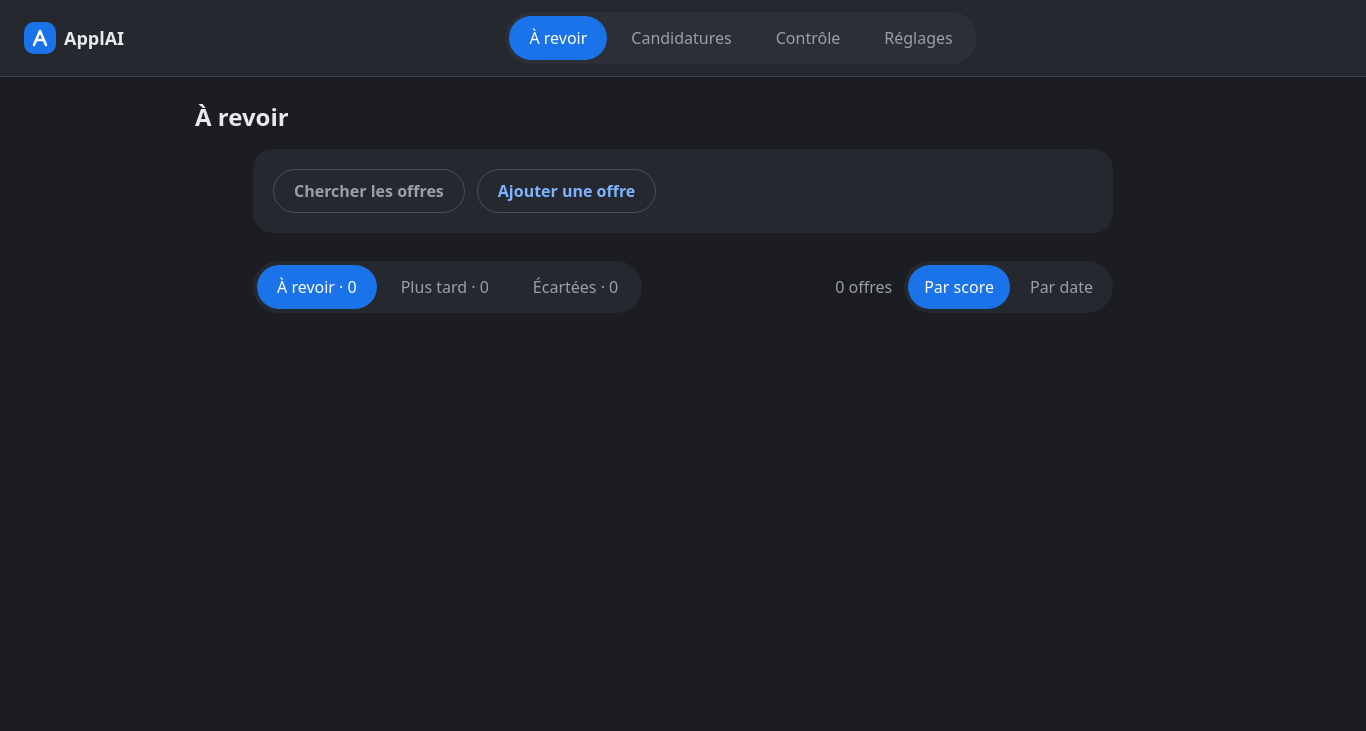
Test: the Settings page › has a sun and a moon for the theme, the language apart, and nothing that signs in or sends
What coordinates should you click on to do the following:
click the button "Réglages"
I would click on:
 (919, 38)
Its box is [864,16,973,60].
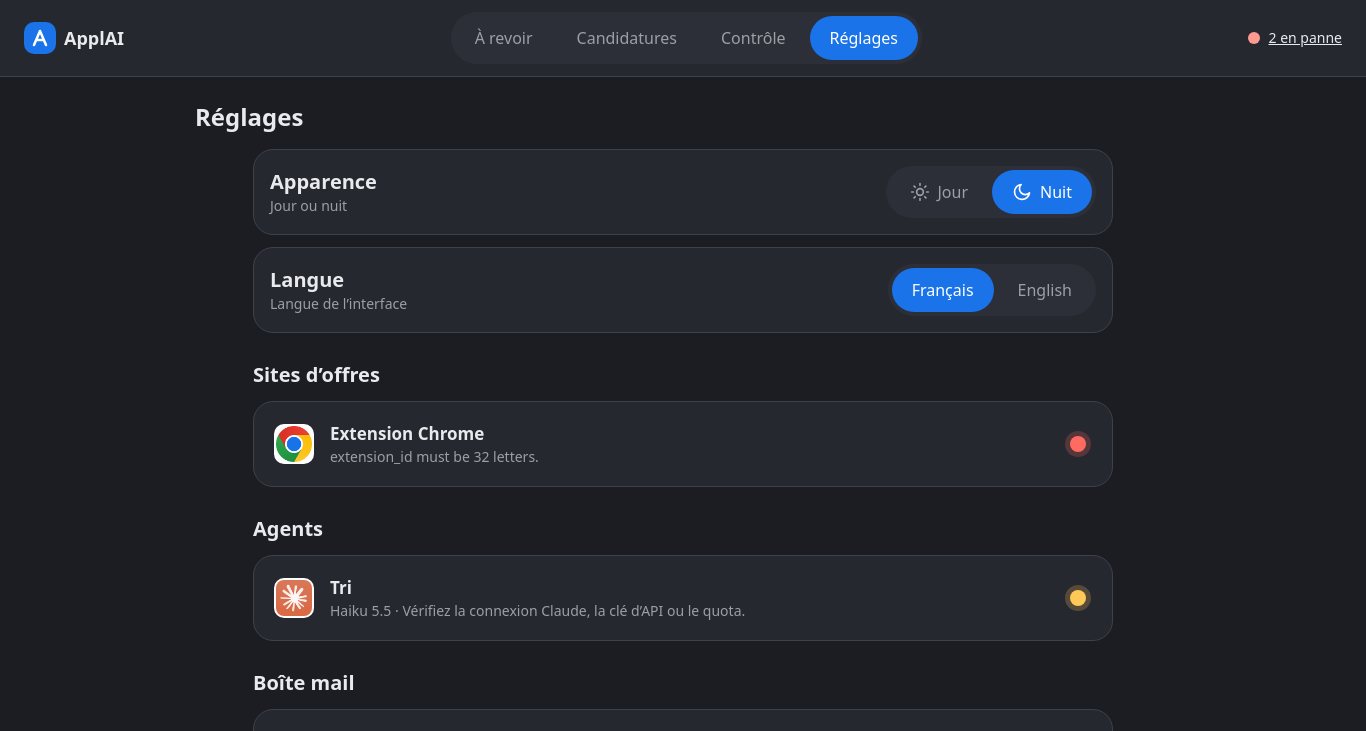
expect the text "extension_id must be 32 letters." is shown: met, box [330,447,539,466]
expect the buttons read "Jour", "Nuit", in this order: met, box [890,170,988,214]; [992,170,1092,214]
expect the buttons read "Français", "English", in this order: met, box [892,268,994,312]; [998,268,1092,312]
